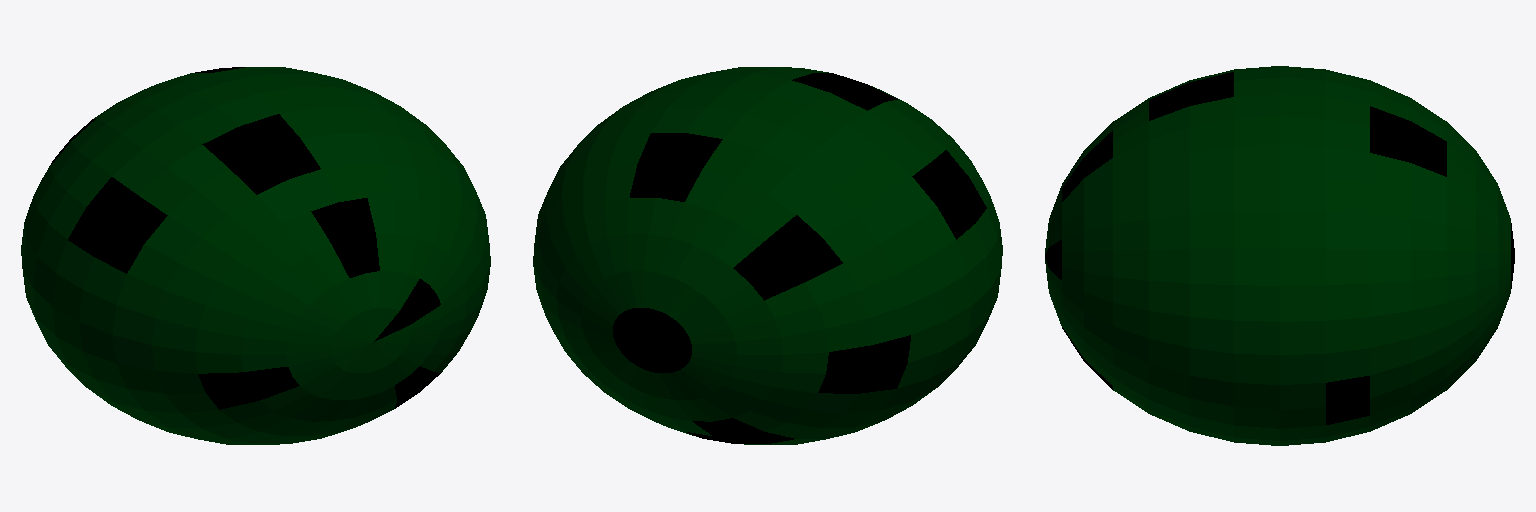
The model's file is SnakeBody.obj.
3 renders of one model, left to right at view 1: azimuth 30°, elevation 25°; view 2: azimuth 150°, elevation 25°; view 3: azimuth 270°, elevation 25°, orthographic.
Visible parts, largest first — view 1: SnakeBody_Mesh; view 2: SnakeBody_Mesh; view 3: SnakeBody_Mesh.
Boxes of the visible parts, box(x1,y1,x2,y2) form: SnakeBody_Mesh: box(21, 67, 490, 444); SnakeBody_Mesh: box(533, 67, 1002, 444); SnakeBody_Mesh: box(1045, 66, 1514, 445).
Bounding box in the file's own units: 0.4751 × 0.3611 × 0.4751.